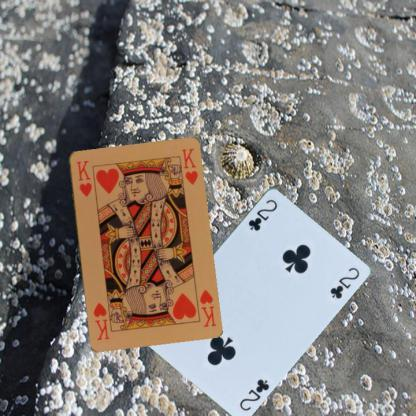2c: (236, 376, 270, 412), (245, 196, 278, 232)
Kh: (196, 286, 218, 328), (73, 158, 93, 198)
